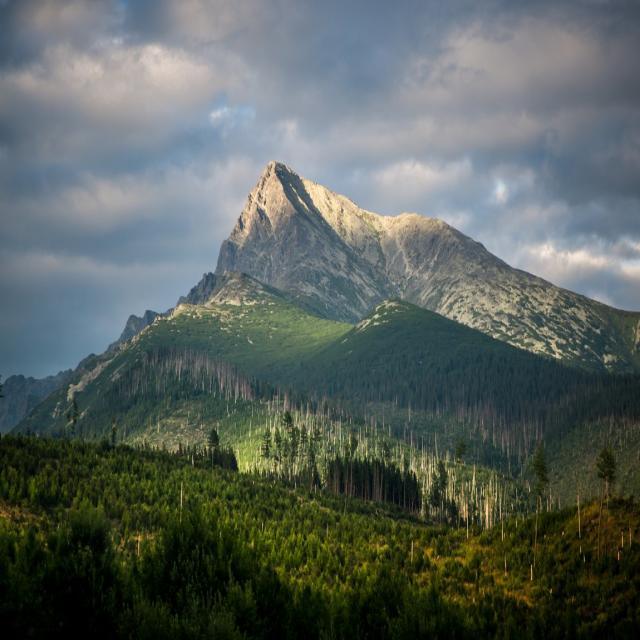Krivan: (182, 53, 363, 270)
